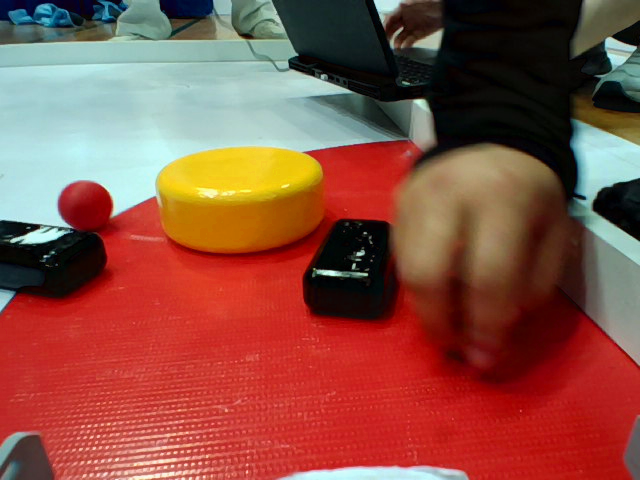black: (308, 212, 415, 330), (1, 210, 111, 307)
red: (51, 182, 125, 236)
yellow: (152, 147, 321, 254)
